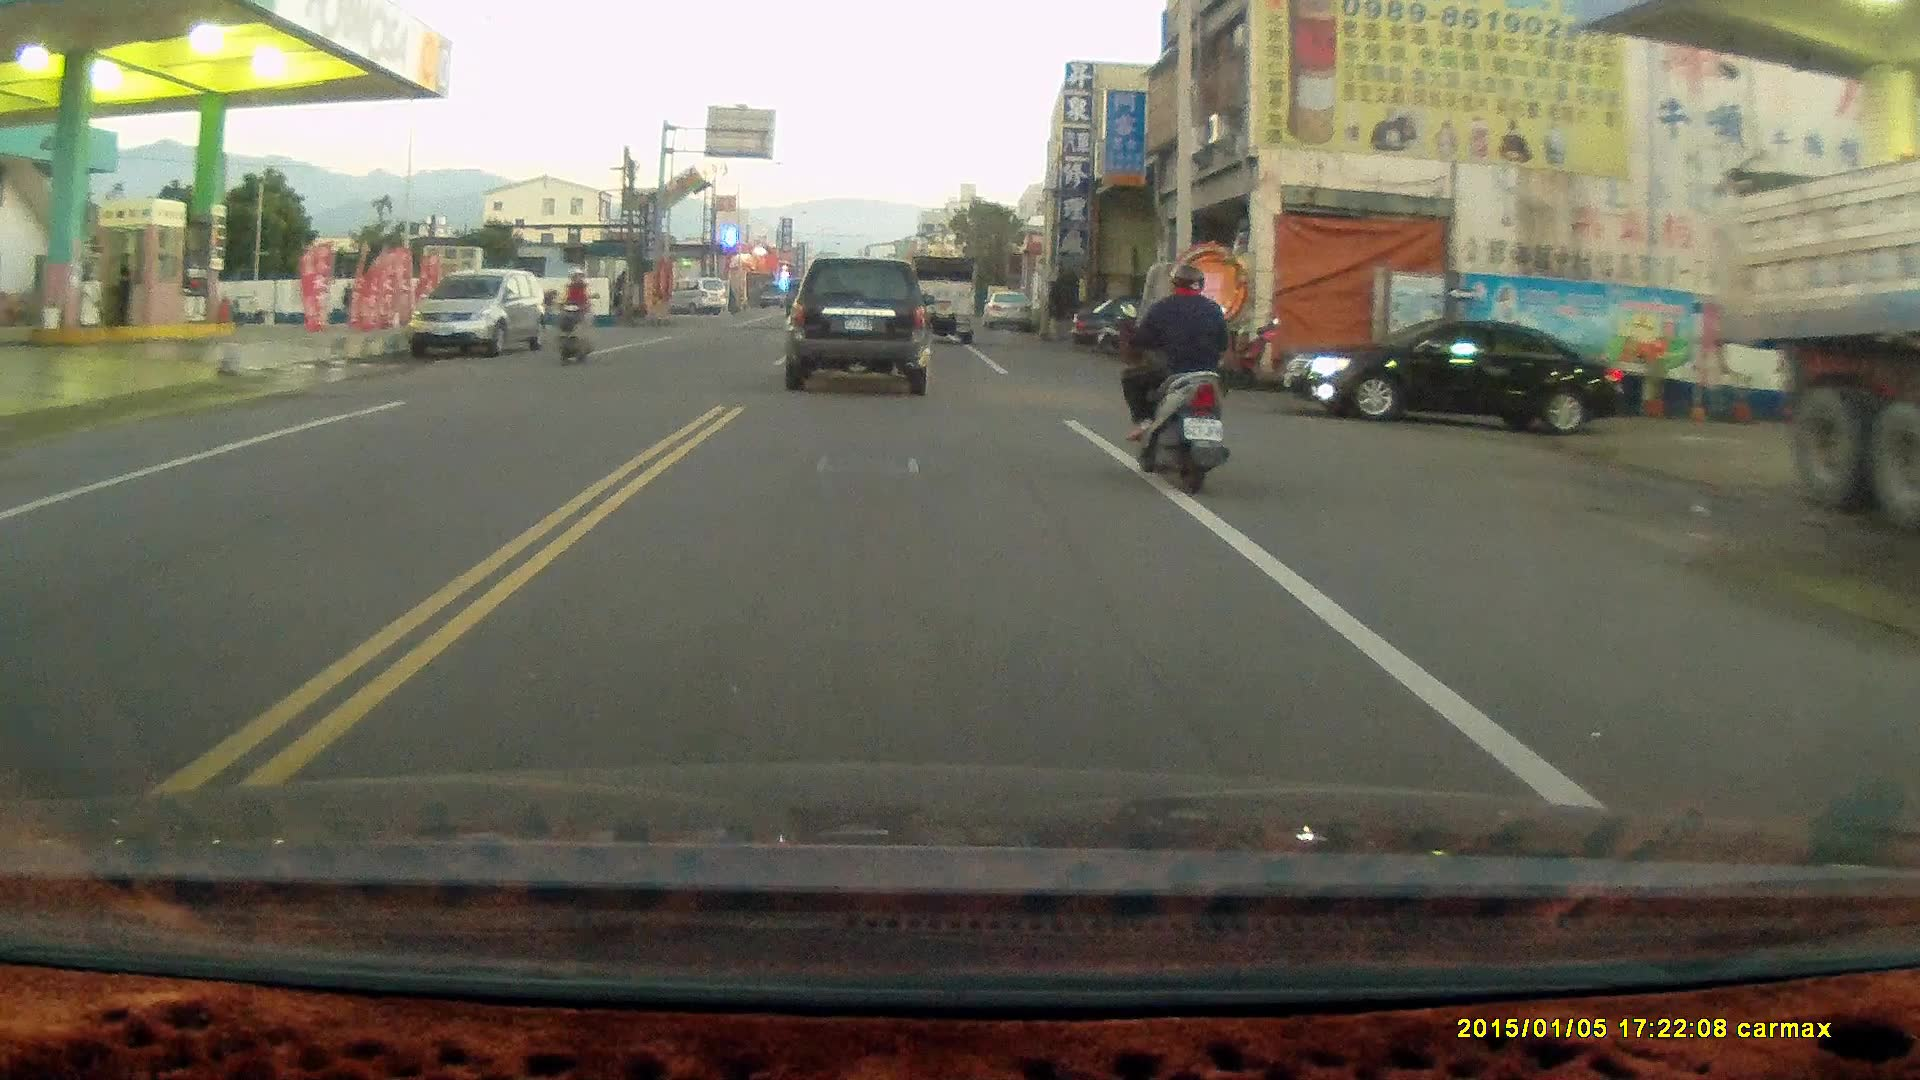rider: (1114, 263, 1227, 497), (547, 268, 590, 367)
vehicle: (1719, 127, 1920, 529), (1279, 323, 1639, 437), (790, 258, 937, 397), (408, 270, 545, 367), (893, 253, 979, 346)
